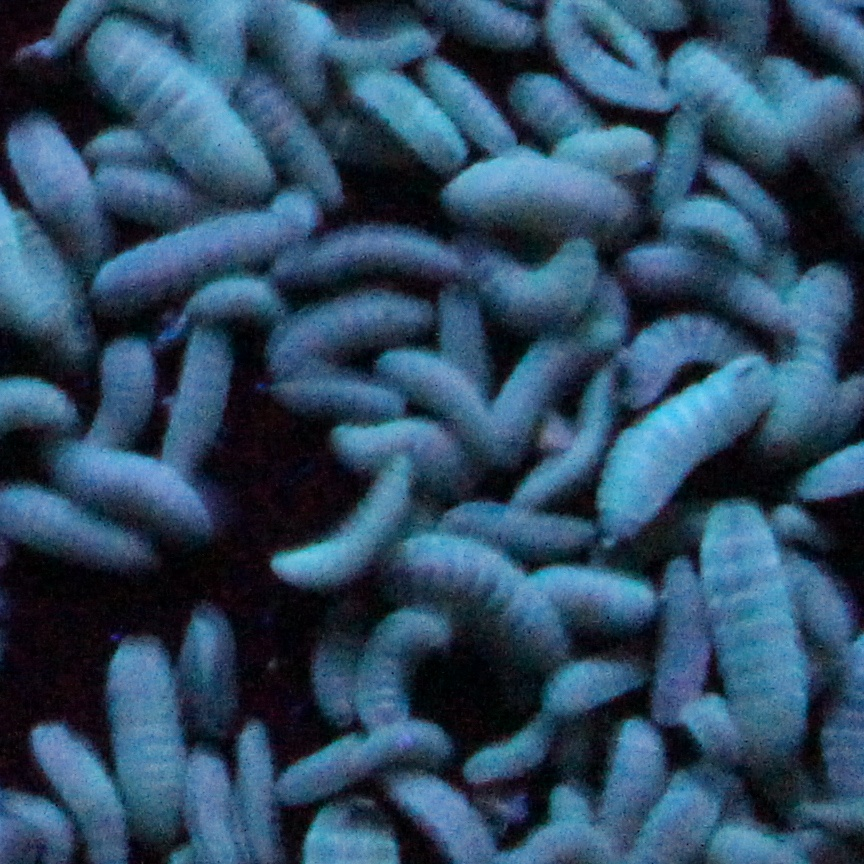larve: (706, 522, 821, 759), (621, 367, 769, 530), (102, 37, 250, 182), (424, 526, 554, 670), (106, 630, 191, 841), (458, 167, 643, 237), (39, 448, 198, 519), (624, 245, 772, 321), (772, 263, 836, 438), (269, 231, 471, 284), (279, 491, 381, 595), (479, 246, 594, 323), (398, 779, 497, 858), (169, 328, 232, 450), (659, 560, 704, 728), (94, 339, 162, 450), (548, 651, 657, 719), (264, 299, 436, 342), (263, 374, 408, 421), (553, 563, 650, 631), (236, 724, 283, 861), (364, 601, 417, 719), (567, 360, 613, 492), (34, 729, 102, 816), (363, 84, 449, 151), (316, 725, 460, 764), (317, 602, 360, 729), (503, 335, 548, 453), (663, 775, 728, 856), (297, 810, 399, 861), (718, 86, 786, 162), (196, 601, 232, 733), (611, 729, 666, 814), (131, 234, 267, 268), (42, 526, 148, 569), (409, 362, 481, 425), (654, 109, 703, 198), (279, 99, 326, 190), (789, 84, 852, 150), (664, 200, 760, 243), (544, 788, 601, 856), (192, 755, 230, 856), (333, 425, 456, 456), (468, 723, 537, 778), (528, 64, 573, 142), (459, 82, 507, 149), (578, 124, 649, 169), (181, 280, 261, 318), (733, 824, 798, 859)
